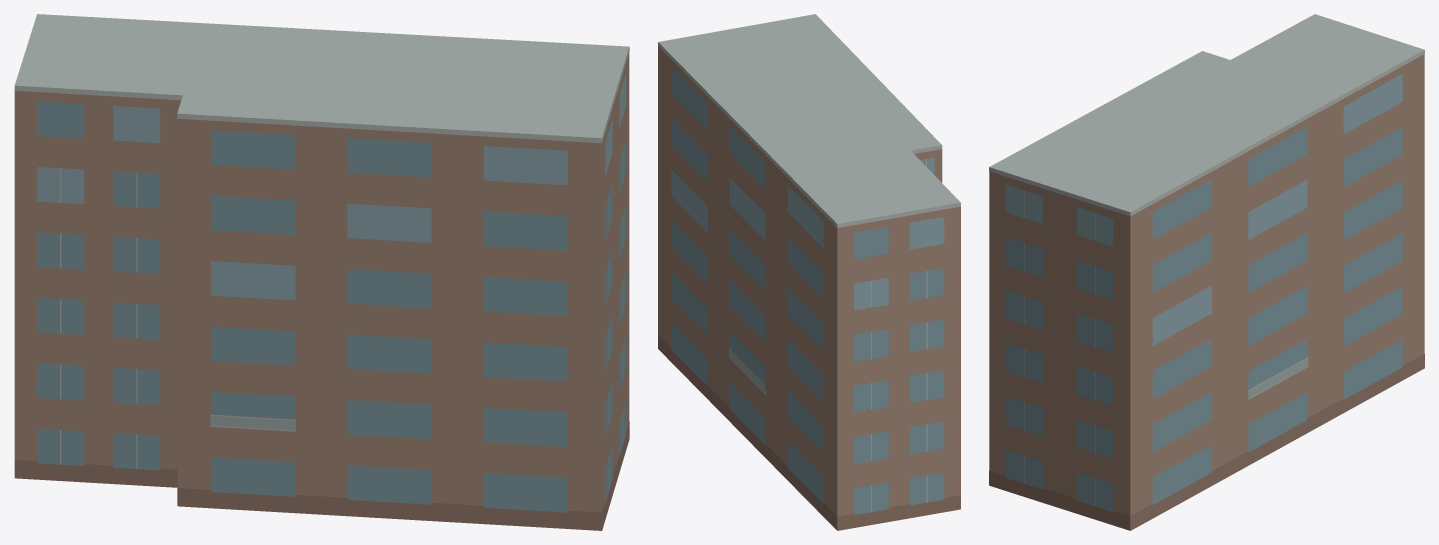
Rendered from survey-upis-32629417.glb.
3 views of the same model, side by side, from view 1: azimuth 30°, elevation 25°; view 2: azimuth 150°, elevation 25°; view 3: azimuth 270°, elevation 25° (orthographic). The views are drawn at different scales.
Visible parts, largest first — view 1: survey-upis-32629417.tmp; view 2: survey-upis-32629417.tmp; view 3: survey-upis-32629417.tmp.
Boxes of the visible parts, x1,y1,x2,y2 form: survey-upis-32629417.tmp: [14, 14, 629, 530]; survey-upis-32629417.tmp: [658, 14, 960, 530]; survey-upis-32629417.tmp: [989, 14, 1424, 530].
Bounding box in the file's own units: 25.12 × 18.8 × 23.31.
